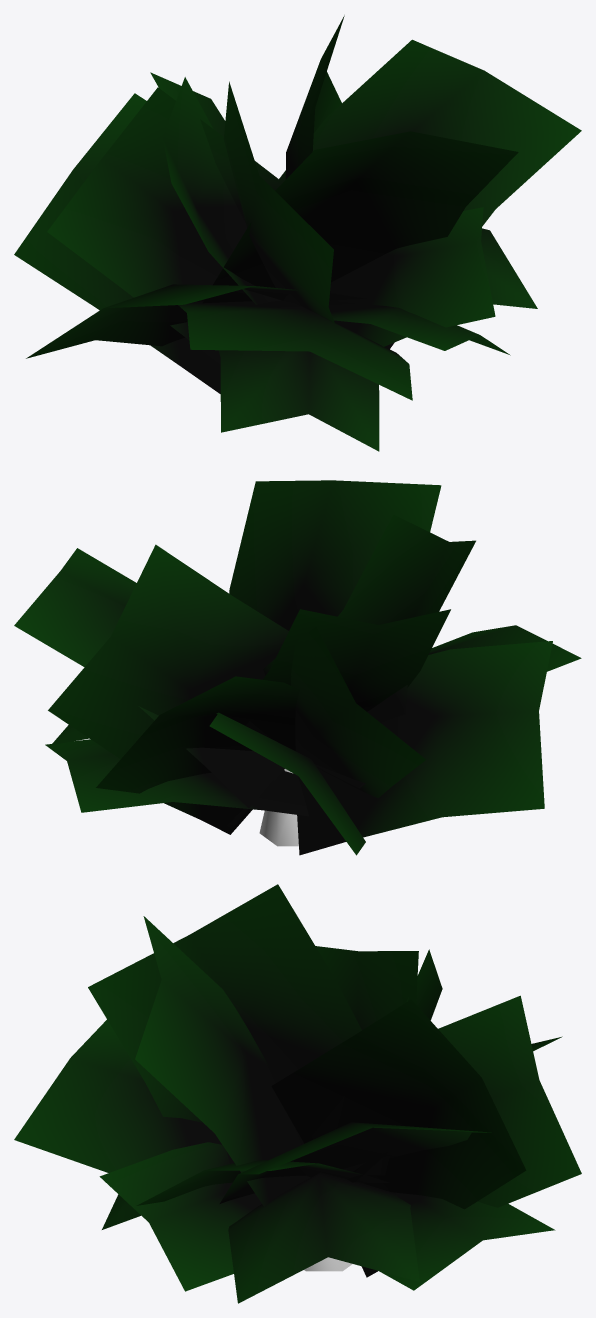
File: DwarfPalmettoPalm02_afsTREE_xlprl15_xef20_xmw06_xlb08_xafs.fbx
3 renders of one model, top to bottom at view 1: azimuth 30°, elevation 25°; view 2: azimuth 150°, elevation 25°; view 3: azimuth 270°, elevation 25°, orthographic. The views are drawn at different scales.
Parts seen in each view (by area): view 1: leaf_xw02_xt01.002, leaf_xw02_xt01_xp02.002, leaf_xw02_xt01_xp01.002, leaf_xw01_xt01.005, leaf_xw01_xt00, leaf_xw01_xt01_xp07.002, leaf_xw02_xt01_xp06.002, leaf_xw00_xt01_xp08.002, leaf_xw01_xt01.004, leaf_xw01_xt01.003, leaf_xw00_xt01_xp09.002, leaf_xw01_xt01_xp10.002 (+2 smaller); view 2: leaf_xw01_xt01.003, leaf_xw01_xt01_xp10.002, leaf_xw02_xt01.002, leaf_xw01_xt00.001, leaf_xw02_xt01_xp01.002, leaf_xw02_xt01_xp02.002, leaf_xw01_xt01.004, leaf_xw02_xt01_xp06.002, leaf_xw01_xt00_xp08.002, leaf_xw00_xt01_xp08.002, leaf_xw01_xt01_xp07.002, trunk_xw00_xt00_xlp00.001; view 3: leaf_xw01_xt01_xp10.002, leaf_xw02_xt01_xp06.002, leaf_xw02_xt01.002, leaf_xw01_xt01_xp04, leaf_xw01_xt01_xp07.002, leaf_xw01_xt00.001, leaf_xw00_xt01_xp09.002, leaf_xw01_xt00_xp08.002, leaf_xw02_xt01_xp01.002, leaf_xw01_xt01.004, leaf_xw01_xt01.005, leaf_xw02_xt01_xp02.002 (+1 smaller).
Part boxes in pixels (left/top/right/bottom): leaf_xw02_xt01.002: left=203, top=131, right=518, bottom=303; leaf_xw02_xt01_xp02.002: left=47, top=87, right=282, bottom=364; leaf_xw02_xt01_xp01.002: left=279, top=39, right=581, bottom=349; leaf_xw01_xt01.005: left=330, top=207, right=495, bottom=346; leaf_xw01_xt00: left=218, top=350, right=379, bottom=451; leaf_xw01_xt01_xp07.002: left=178, top=300, right=412, bottom=400; leaf_xw02_xt01_xp06.002: left=223, top=81, right=334, bottom=323; leaf_xw00_xt01_xp08.002: left=14, top=93, right=220, bottom=393; leaf_xw01_xt01.004: left=162, top=77, right=281, bottom=304; leaf_xw01_xt01.003: left=26, top=284, right=366, bottom=358; leaf_xw00_xt01_xp09.002: left=328, top=300, right=510, bottom=355; leaf_xw01_xt01_xp10.002: left=285, top=15, right=344, bottom=179; leaf_xw01_xt01.003: left=297, top=641, right=552, bottom=855; leaf_xw01_xt01_xp10.002: left=48, top=544, right=288, bottom=828; leaf_xw02_xt01.002: left=229, top=480, right=441, bottom=722; leaf_xw01_xt00.001: left=96, top=676, right=300, bottom=834; leaf_xw02_xt01_xp01.002: left=14, top=548, right=283, bottom=808; leaf_xw02_xt01_xp02.002: left=263, top=626, right=425, bottom=798; leaf_xw01_xt01.004: left=262, top=609, right=450, bottom=711; leaf_xw02_xt01_xp06.002: left=245, top=514, right=475, bottom=738; leaf_xw01_xt00_xp08.002: left=45, top=739, right=309, bottom=816; leaf_xw00_xt01_xp08.002: left=209, top=712, right=365, bottom=855; leaf_xw01_xt01_xp07.002: left=315, top=625, right=581, bottom=788; trunk_xw00_xt00_xlp00.001: left=259, top=769, right=298, bottom=846; leaf_xw01_xt01_xp10.002: left=271, top=999, right=526, bottom=1209; leaf_xw02_xt01_xp06.002: left=88, top=884, right=361, bottom=1122; leaf_xw02_xt01.002: left=135, top=916, right=310, bottom=1206; leaf_xw01_xt01_xp04: left=228, top=1173, right=419, bottom=1303; leaf_xw01_xt01_xp07.002: left=14, top=1019, right=221, bottom=1172; leaf_xw01_xt00.001: left=361, top=995, right=581, bottom=1277; leaf_xw00_xt01_xp09.002: left=99, top=1142, right=261, bottom=1291; leaf_xw01_xt00_xp08.002: left=379, top=1192, right=555, bottom=1290; leaf_xw02_xt01_xp01.002: left=219, top=1122, right=491, bottom=1203; leaf_xw01_xt01.004: left=315, top=946, right=418, bottom=1175; leaf_xw01_xt01.005: left=136, top=1160, right=389, bottom=1205; leaf_xw02_xt01_xp02.002: left=312, top=949, right=442, bottom=1139.
Bounding box in the file's own units: 2.12 × 2.01 × 1.31.
